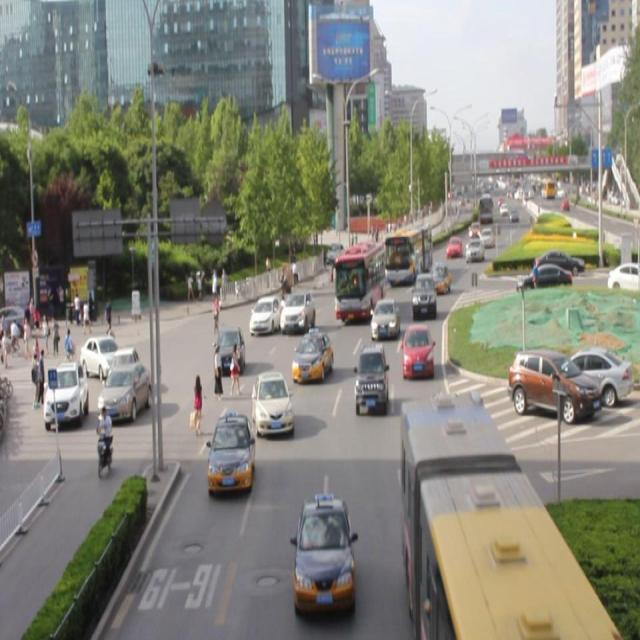car: (294, 495, 350, 608), (208, 411, 252, 489), (422, 396, 462, 470), (252, 371, 292, 431), (354, 341, 387, 412), (291, 328, 330, 382), (400, 322, 432, 377), (278, 280, 313, 327), (214, 320, 243, 370), (248, 288, 281, 326), (410, 270, 436, 318), (369, 296, 398, 338), (429, 260, 449, 292)
van: (400, 399, 616, 640), (334, 239, 384, 317), (385, 222, 430, 280)
